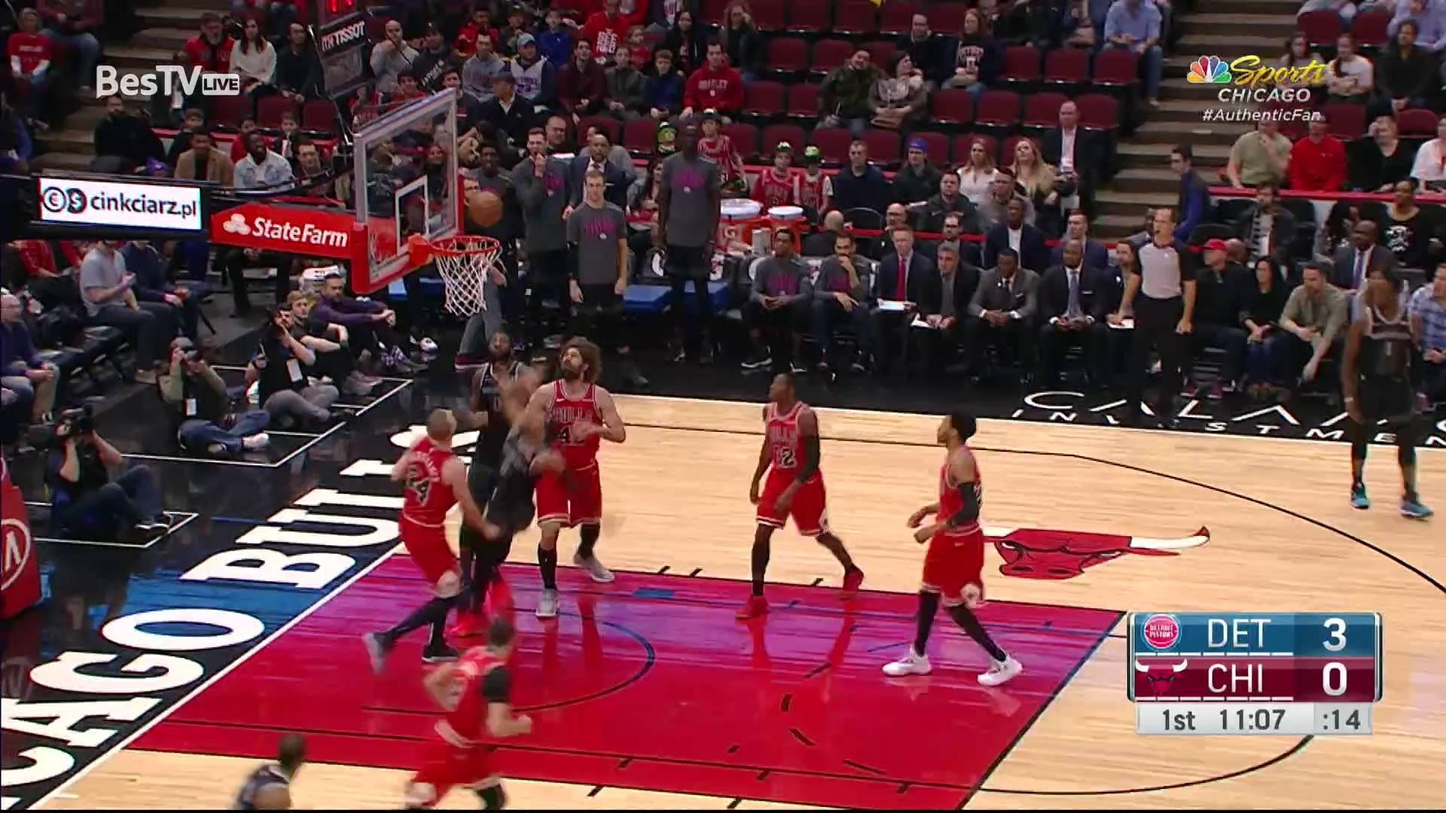basketball: (465, 191, 508, 229)
